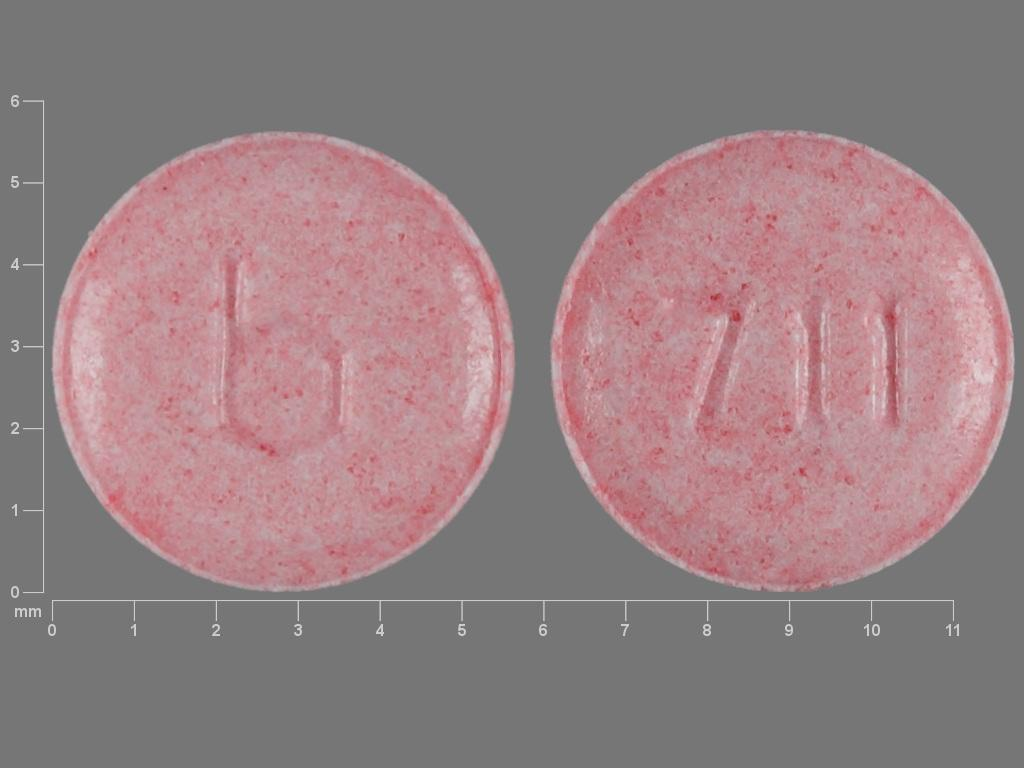Pill: (537, 96, 1022, 596), (47, 97, 526, 598)
